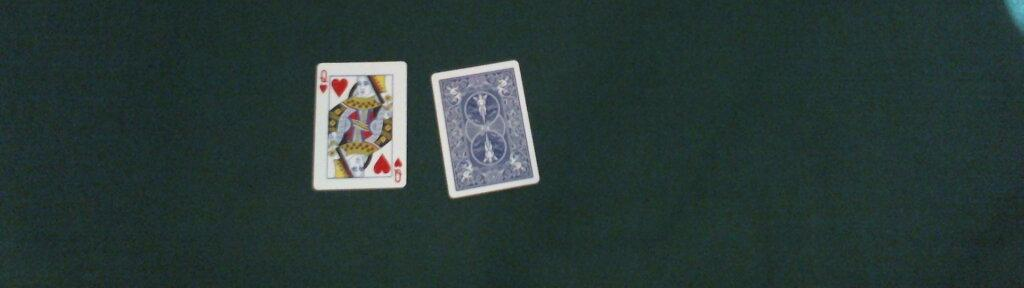back: (431, 60, 542, 199)
queen: (311, 61, 407, 190)
